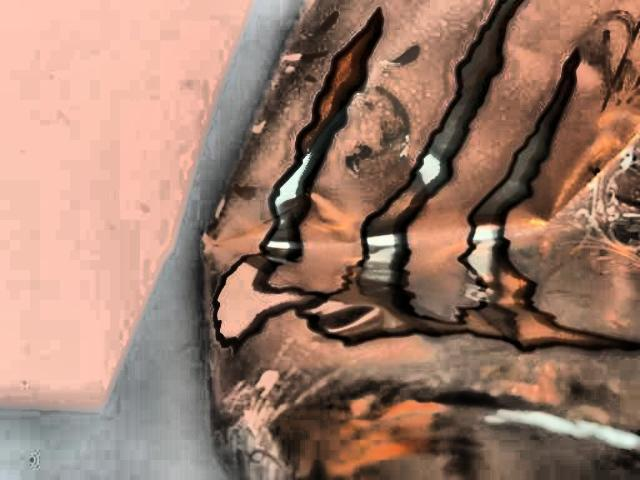Bottles: (178, 0, 640, 480)
